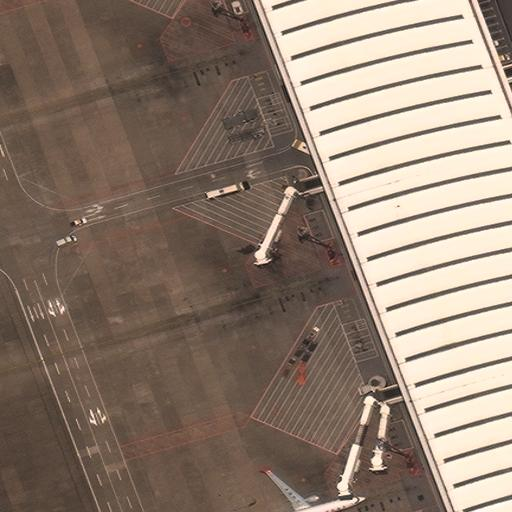Medium Civil Transport: (239, 469, 366, 511)
